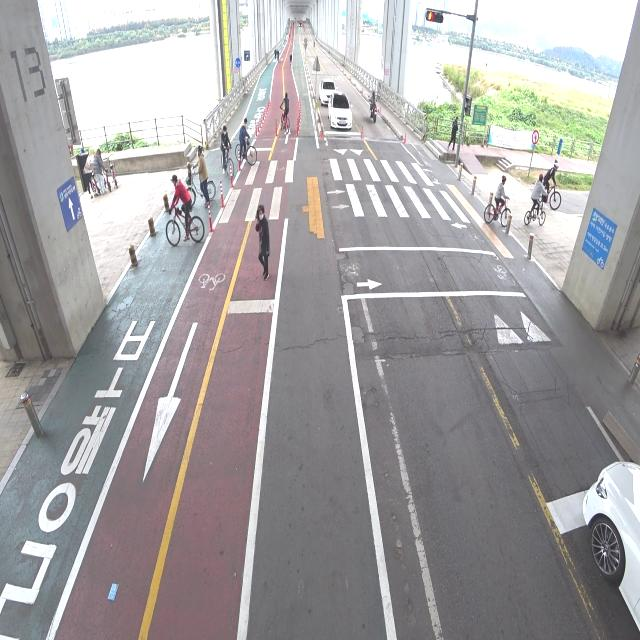Car: (571, 429, 640, 638), (327, 90, 357, 133), (315, 71, 339, 104)
Motorcycle: (368, 88, 377, 122)
